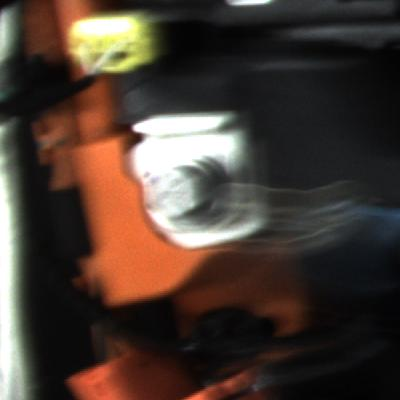nut_b: (143, 149, 235, 239)
